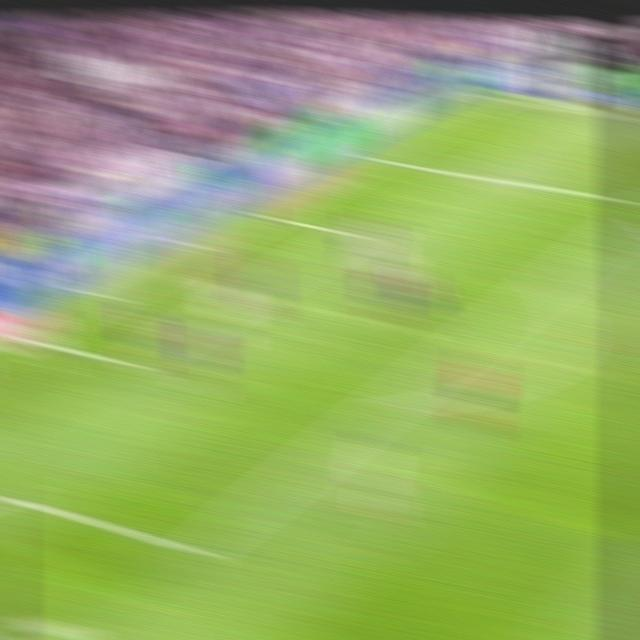bigarea_bottom_inner: (176, 529, 214, 573)
bigarea_top_outter: (357, 146, 390, 168)
bottom_arc_area_intersection: (368, 388, 405, 422)
corner: (467, 88, 500, 108)
smallarea_top_inner: (337, 220, 370, 248)
top_arc_area_intersection: (528, 272, 562, 301)
